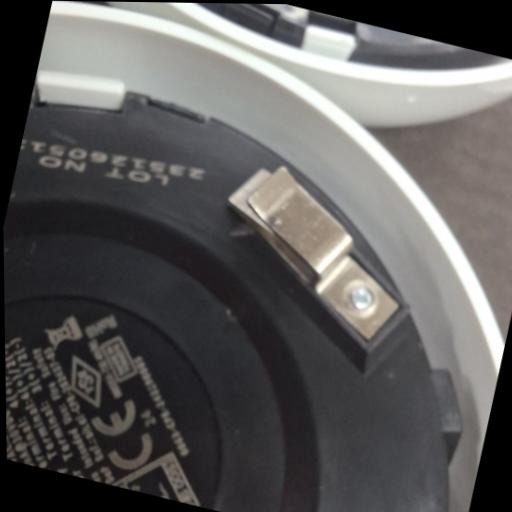yayli: (205, 154, 427, 346)
